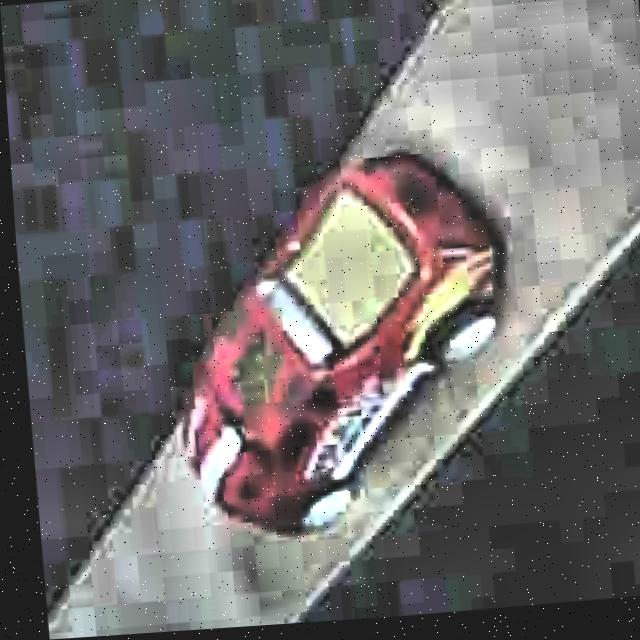car: (153, 142, 530, 548)
